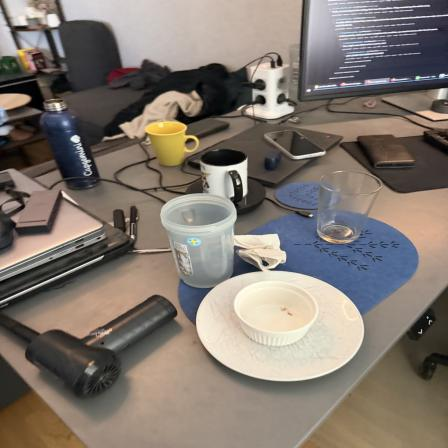blue_bottle: (40, 96, 102, 188)
phone: (262, 126, 328, 163), (357, 133, 418, 171), (180, 116, 233, 140)
yellow_cup: (146, 120, 200, 167)
